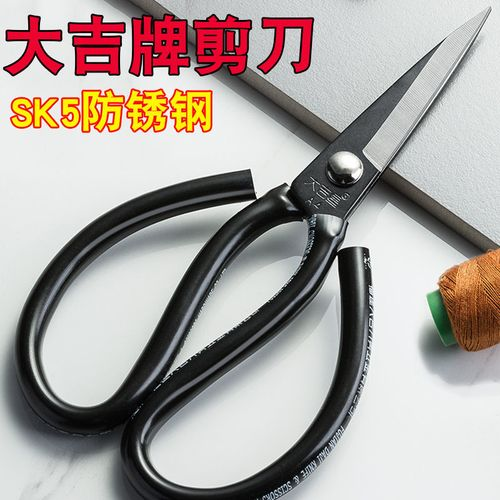scissor: (11, 7, 488, 492)
